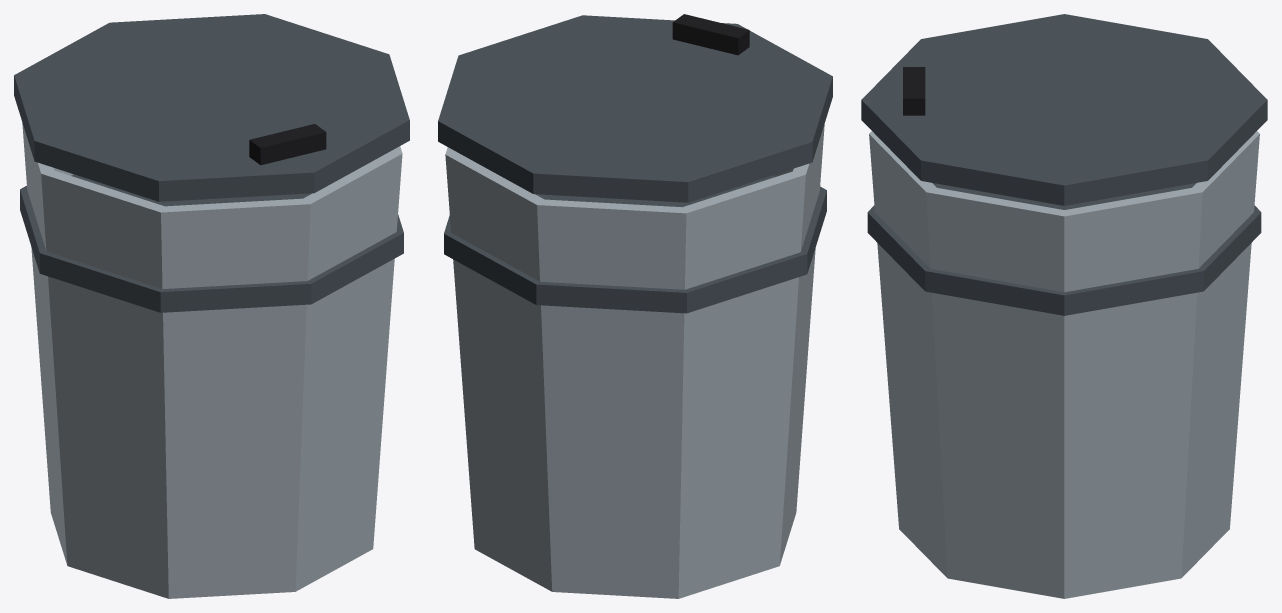
The model's file is GI_TrashCan_01.glb.
3 views of the same model, side by side, from view 1: azimuth 30°, elevation 25°; view 2: azimuth 150°, elevation 25°; view 3: azimuth 270°, elevation 25° (orthographic).
Visible parts, largest first — view 1: GI_TrashCan_01, Lid; view 2: GI_TrashCan_01, Lid; view 3: GI_TrashCan_01, Lid.
Part boxes in pixels (x1,y1,x2,y2): GI_TrashCan_01: (20, 123, 403, 598); Lid: (14, 14, 409, 201); GI_TrashCan_01: (444, 124, 826, 598); Lid: (438, 14, 832, 202); GI_TrashCan_01: (867, 131, 1261, 598); Lid: (861, 14, 1267, 205).
Bounding box in the file's own units: 0.54 × 0.655 × 0.54.
Materials: 1 (1 with a texture image).
